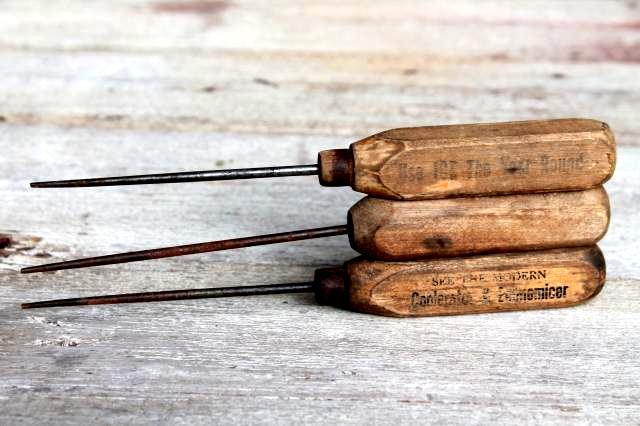ice pick: (20, 186, 612, 274), (31, 117, 616, 199), (19, 244, 607, 318)
